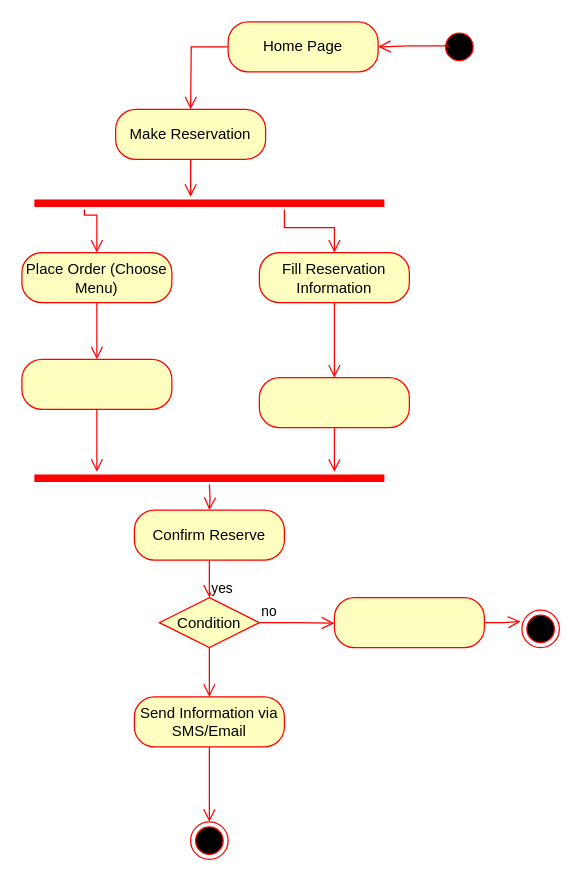
The diagram is 581 pixels wide and 881 high, and some of its shapes have lost their labels. The shapes that lost their labels are listed below. From the top down, each one's centre as x and y in pixels, then its label:
At pixel 96 383: "Choose Payment".
At pixel 333 402: "Choose Table".
At pixel 408 622: "Confirm Cancel".
